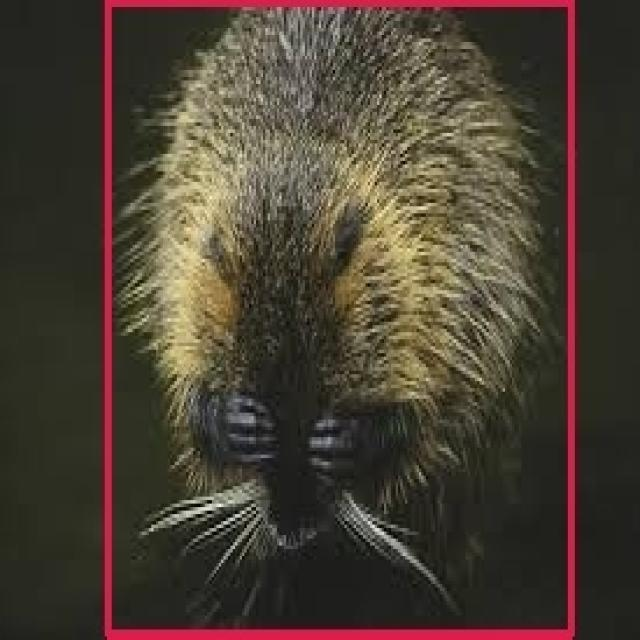rat: (109, 0, 572, 637)
